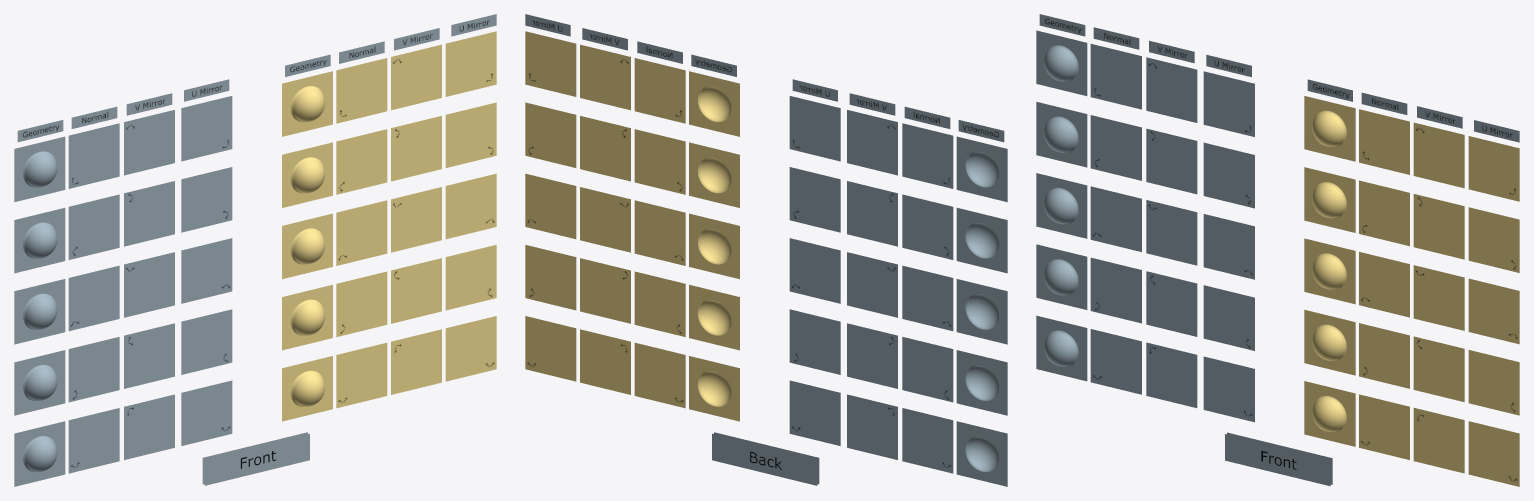
Rendered from NormalTangentMirrorTest.glb.
3 renders of one model, left to right at view 1: azimuth 30°, elevation 25°; view 2: azimuth 150°, elevation 25°; view 3: azimuth 330°, elevation 25°, orthographic.
Parts seen in each view (by area): view 1: NormalTangentTest_low; view 2: NormalTangentTest_low; view 3: NormalTangentTest_low.
Boxes of the visible parts, box(x1,y1,x2,y2) form: NormalTangentTest_low: box(14, 14, 496, 486); NormalTangentTest_low: box(525, 14, 1007, 486); NormalTangentTest_low: box(1036, 14, 1519, 486).
Size of the model in its own units: 2.84 by 2.25 by 0.0905.
Materials: 1 (1 with a texture image).
